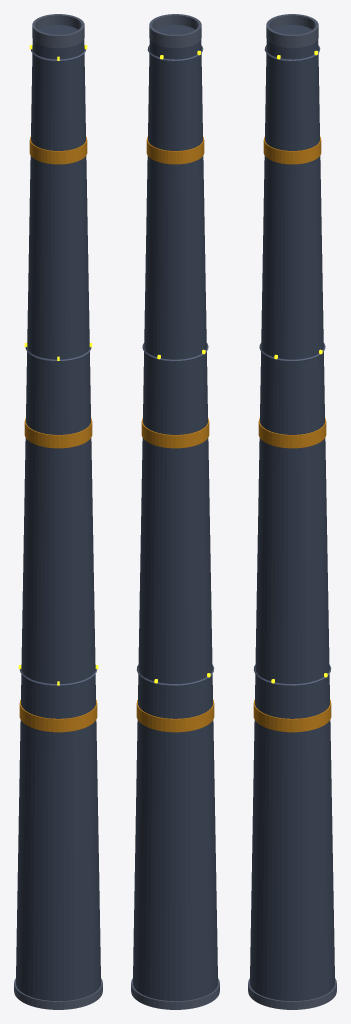
The model's file is power_chimney.glb.
3 renders of one model, left to right at view 1: azimuth 90°, elevation 25°; view 2: azimuth 150°, elevation 25°; view 3: azimuth 330°, elevation 25°, orthographic.
Parts seen in each view (by area): view 1: concrete, hivis, concrete_raw_cast, metal; view 2: concrete, hivis, concrete_raw_cast, metal; view 3: concrete, hivis, concrete_raw_cast, metal.
Part boxes in pixels (x1,y1,x2,y2): concrete: [16, 25, 100, 1001]; hivis: [19, 136, 97, 732]; concrete_raw_cast: [14, 14, 102, 1009]; metal: [19, 45, 97, 685]; concrete: [133, 25, 217, 1001]; hivis: [136, 136, 214, 732]; concrete_raw_cast: [131, 14, 219, 1009]; metal: [136, 45, 214, 685]; concrete: [250, 25, 334, 1001]; hivis: [253, 136, 331, 732]; concrete_raw_cast: [248, 14, 336, 1009]; metal: [253, 45, 331, 685].
Size of the model in its own units: 10 by 120 by 10.
